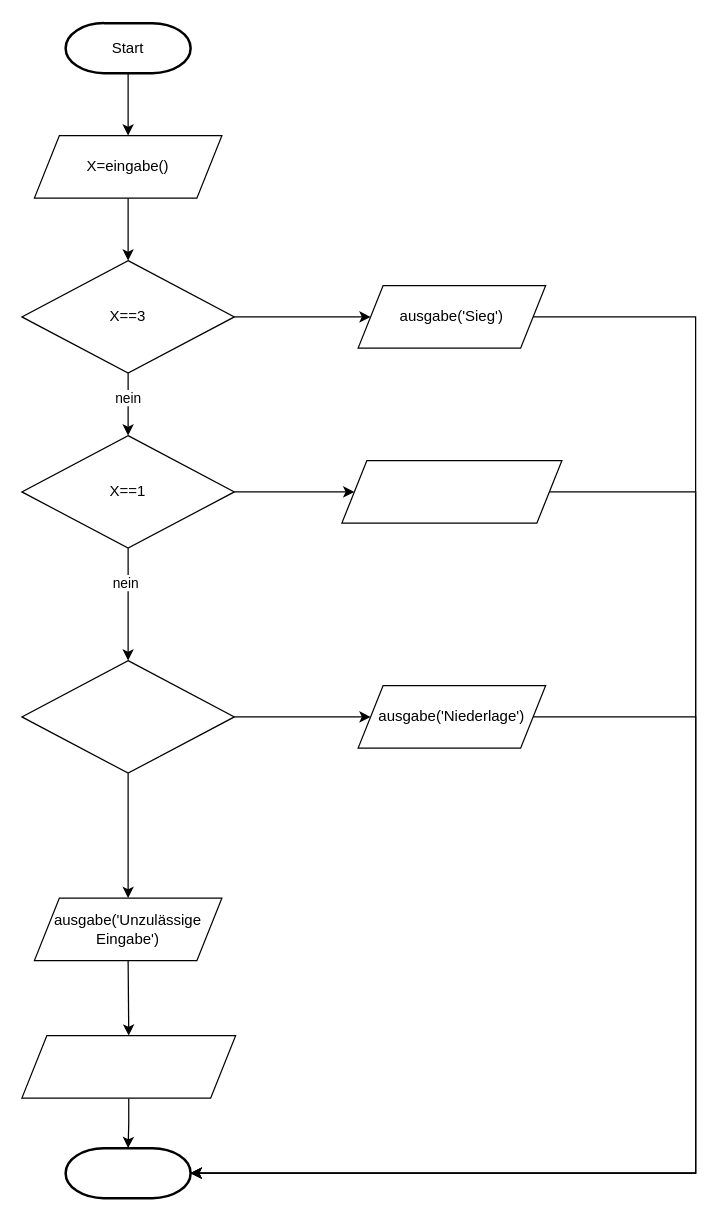
The diagram is 728 pixels wide and 1220 high, and some of its shapes have lost their labels. The shapes that lost their labels are listed below. From the top down, each one's centre as x and y in pixels, then its label:
the point at 451,491: ausgabe('Unentschieden')
the point at 127,716: X==0
the point at 128,1066: ausgabe('Programm Ende")
the point at 127,1172: Ende
